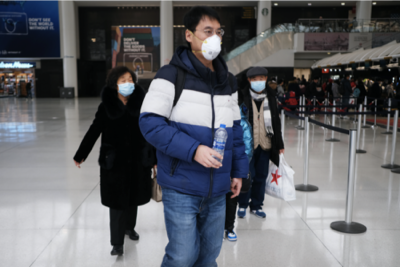with_mask: (194, 24, 225, 62), (117, 73, 136, 99), (251, 75, 268, 94)
